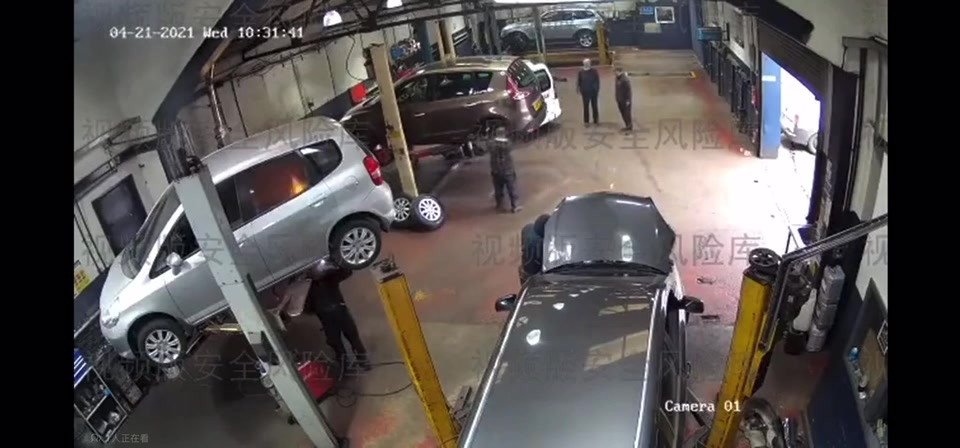fire: (278, 172, 311, 201)
